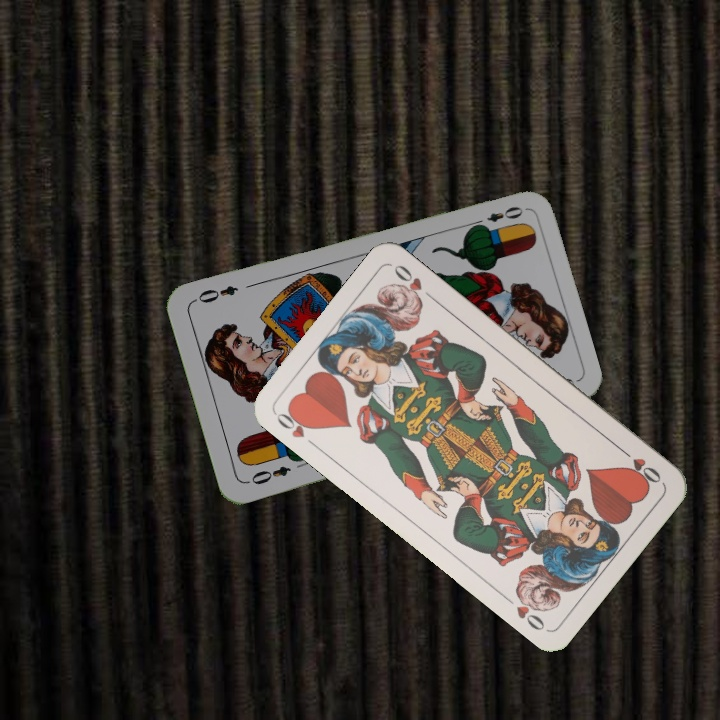EO: (469, 202, 526, 231), (243, 462, 293, 488)
HO: (271, 403, 321, 451), (615, 443, 664, 489)
